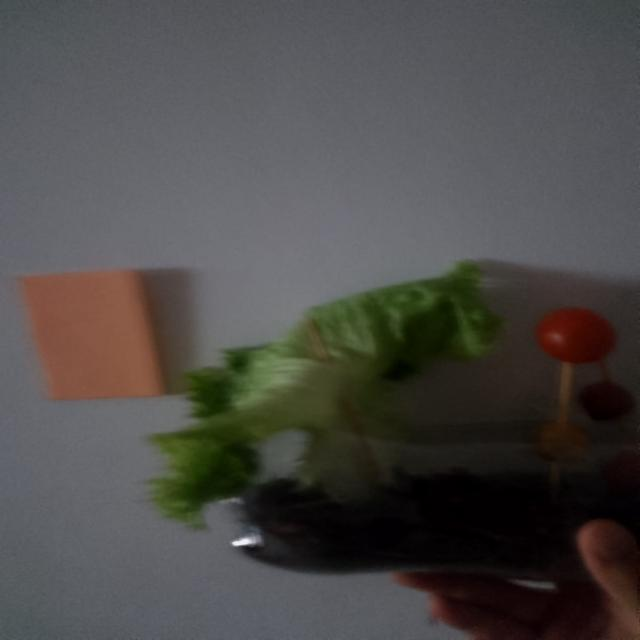card: (20, 270, 165, 399)
fully_grown: (536, 307, 617, 363)
